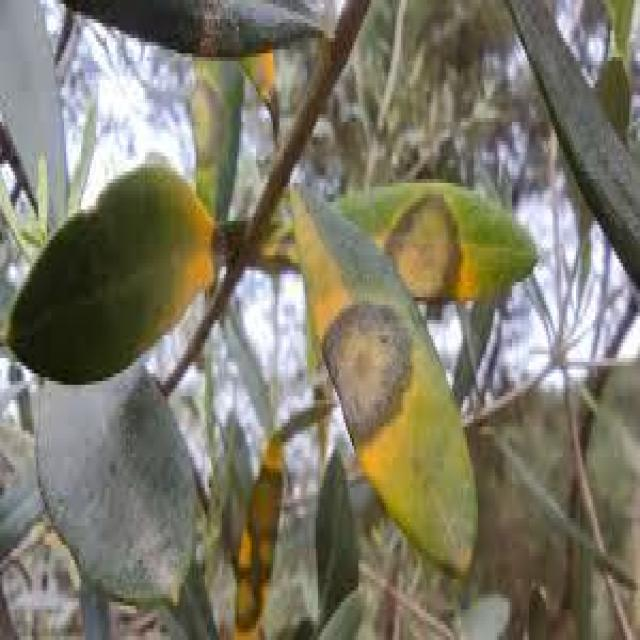Peacock Eye: (290, 187, 476, 571), (339, 187, 535, 301), (233, 434, 282, 636)
